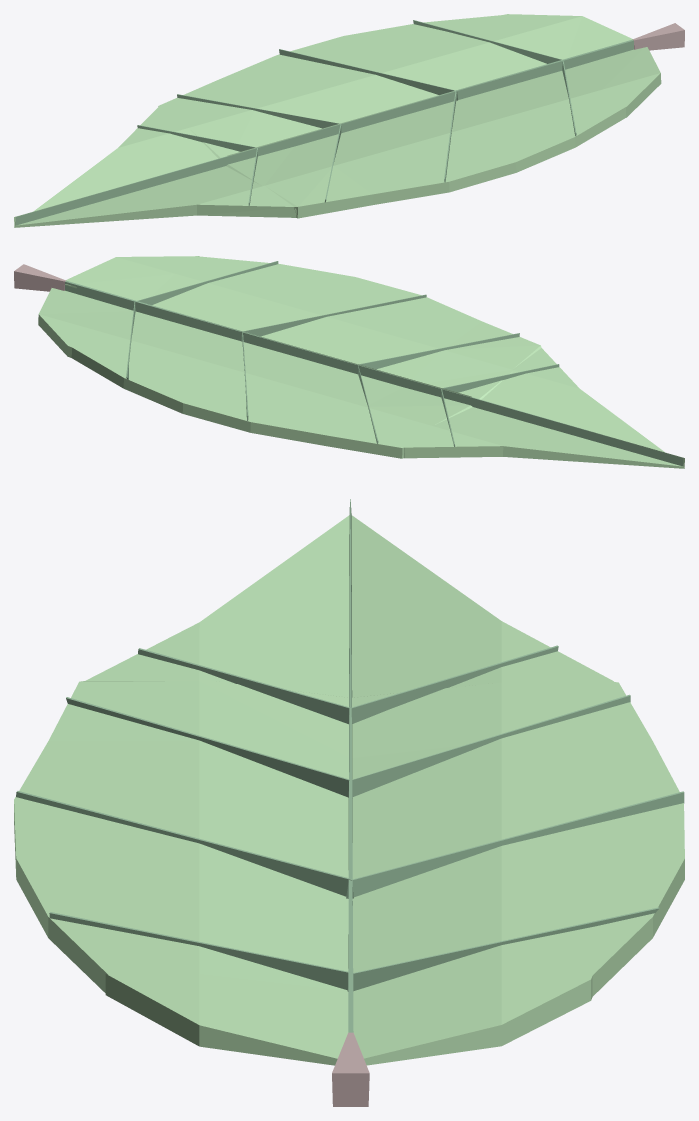
Rendered from Leaf.fbx.
3 views of the same model, one above another, from view 1: azimuth 30°, elevation 25°; view 2: azimuth 150°, elevation 25°; view 3: azimuth 270°, elevation 25° (orthographic). The views are drawn at different scales.
Visible parts, largest first — view 1: pasted__pPlane1, pasted__pCube2, pasted__pCube10, pasted__pCube8, pasted__pCube7, pasted__pCube9, pasted__pCube3; view 2: pasted__pPlane1, pasted__pCube2, pasted__pCube10, pasted__pCube5, pasted__pCube4, pasted__pCube6, pasted__pCube1; view 3: pasted__pPlane1, pasted__pCube8, pasted__pCube5, pasted__pCube6, pasted__pCube4, pasted__pCube9, pasted__pCube7, pasted__pCube2, pasted__pCube1, pasted__pCube10, pasted__pCube3.
Part boxes in pixels (left/top/right/bottom): pasted__pPlane1: left=14, top=14, right=661, bottom=227; pasted__pCube2: left=15, top=39, right=633, bottom=225; pasted__pCube10: left=632, top=23, right=684, bottom=50; pasted__pCube8: left=279, top=49, right=457, bottom=100; pasted__pCube7: left=177, top=94, right=338, bottom=128; pasted__pCube9: left=413, top=20, right=561, bottom=63; pasted__pCube3: left=137, top=125, right=255, bottom=151; pasted__pPlane1: left=38, top=256, right=684, bottom=468; pasted__pCube2: left=65, top=281, right=683, bottom=466; pasted__pCube10: left=14, top=264, right=66, bottom=291; pasted__pCube5: left=241, top=294, right=426, bottom=341; pasted__pCube4: left=359, top=333, right=519, bottom=369; pasted__pCube6: left=137, top=261, right=278, bottom=304; pasted__pCube1: left=443, top=364, right=559, bottom=392; pasted__pPlane1: left=14, top=515, right=684, bottom=1065; pasted__pCube8: left=346, top=791, right=684, bottom=898; pasted__pCube5: left=16, top=791, right=353, bottom=898; pasted__pCube6: left=49, top=912, right=348, bottom=990; pasted__pCube4: left=66, top=697, right=352, bottom=798; pasted__pCube9: left=347, top=907, right=659, bottom=991; pasted__pCube7: left=352, top=694, right=630, bottom=797; pasted__pCube2: left=348, top=499, right=353, bottom=1032; pasted__pCube1: left=138, top=648, right=350, bottom=724; pasted__pCube10: left=332, top=1032, right=369, bottom=1106; pasted__pCube3: left=351, top=645, right=558, bottom=723.
Bounding box in the file's own units: 3.92 × 0.2187 × 1.76.
